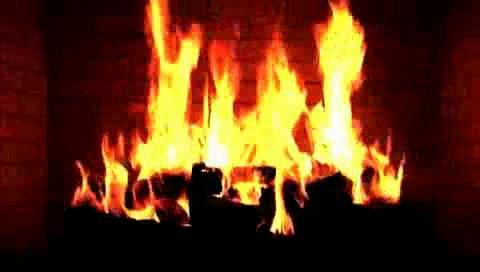fire: (142, 7, 371, 218)
